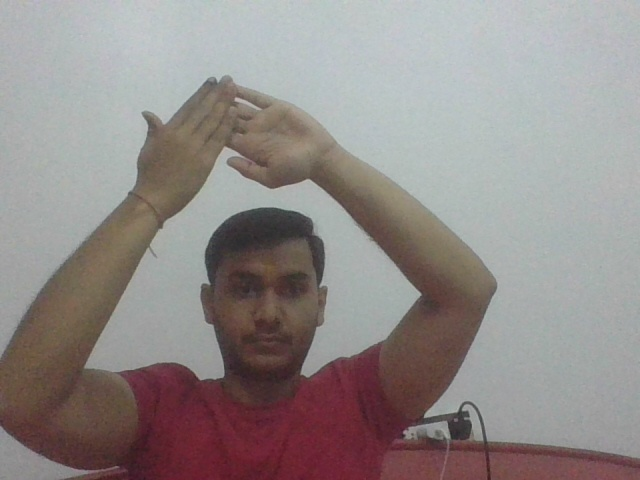H: (132, 65, 327, 197)
